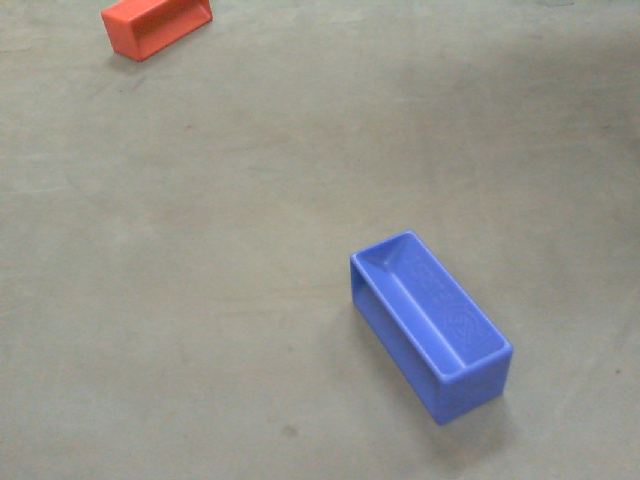BlueSample: (348, 228, 513, 431)
RedSample: (99, 1, 217, 64)
